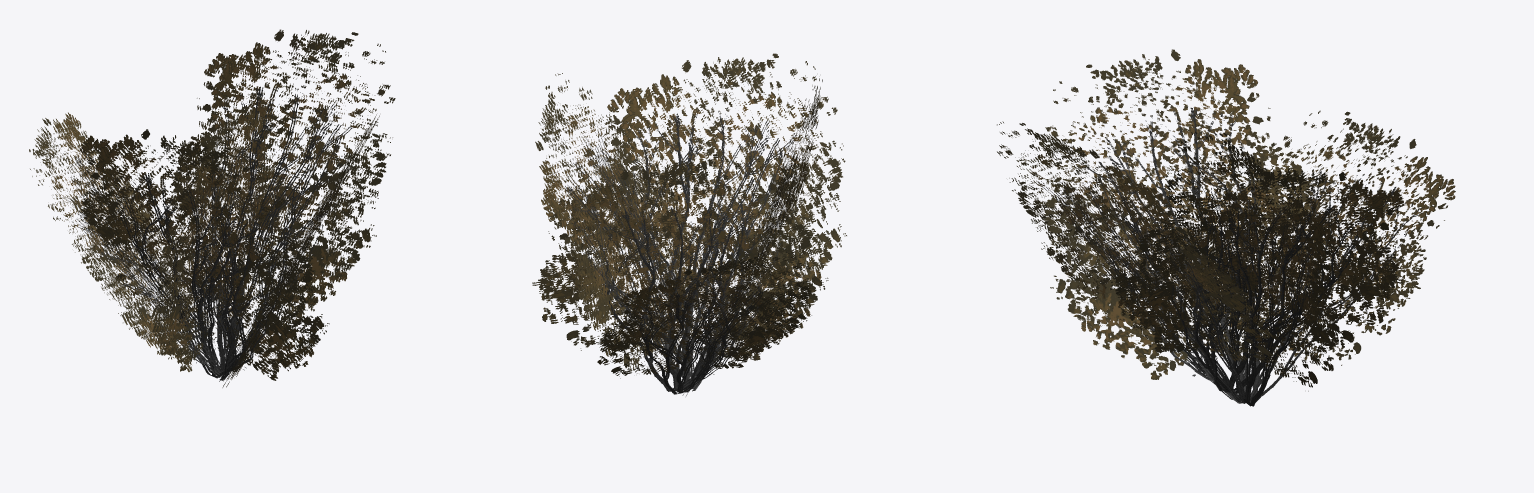
File: Foliage02.fbx
3 views of the same model, side by side, from view 1: azimuth 30°, elevation 25°; view 2: azimuth 150°, elevation 25°; view 3: azimuth 270°, elevation 25° (orthographic). The views are drawn at different scales.
Parts seen in each view (by area): view 1: Foliage02; view 2: Foliage02; view 3: Foliage02.
Boxes of the visible parts, x1,y1,x2,y2 form: Foliage02: (29, 29, 395, 387); Foliage02: (532, 53, 846, 395); Foliage02: (997, 49, 1455, 406).
Size of the model in its own units: 1.68 by 1.5 by 2.24.
Materials: 1 (1 with a texture image).
